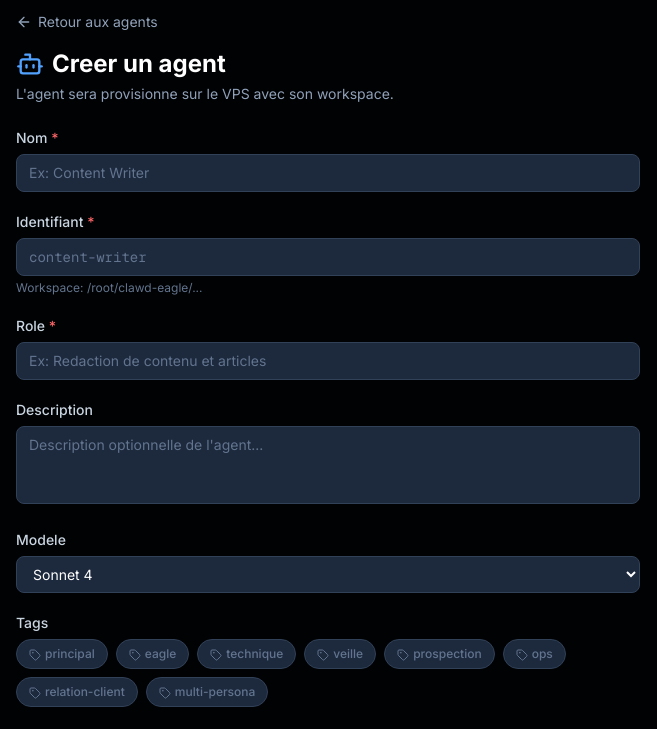
Test: NewAgentPage › shows workspace path preview
In the field with placeholder "Ex: Content Writer": [328, 173] box [16, 154, 640, 192], type "Writer"
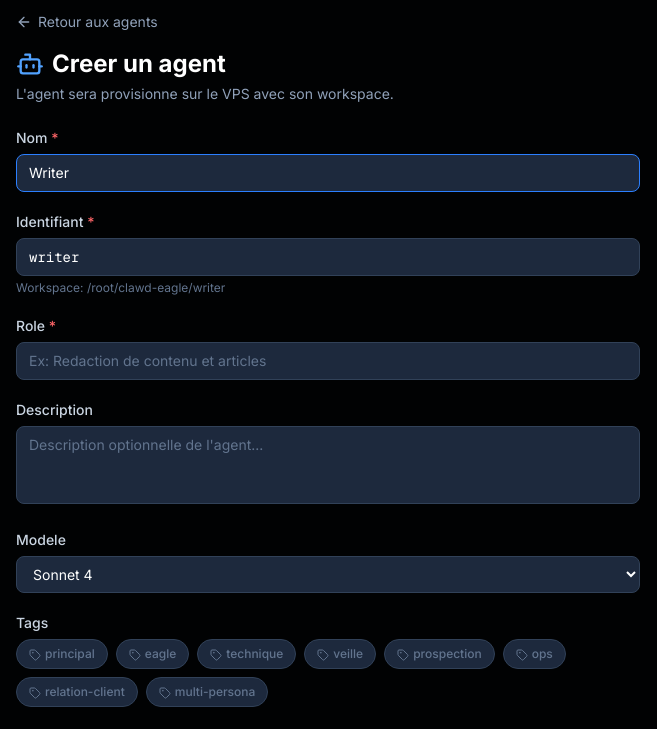
Now the text "Workspace: /root/clawd-eagle/writer" is shown, box [16, 280, 225, 295]
